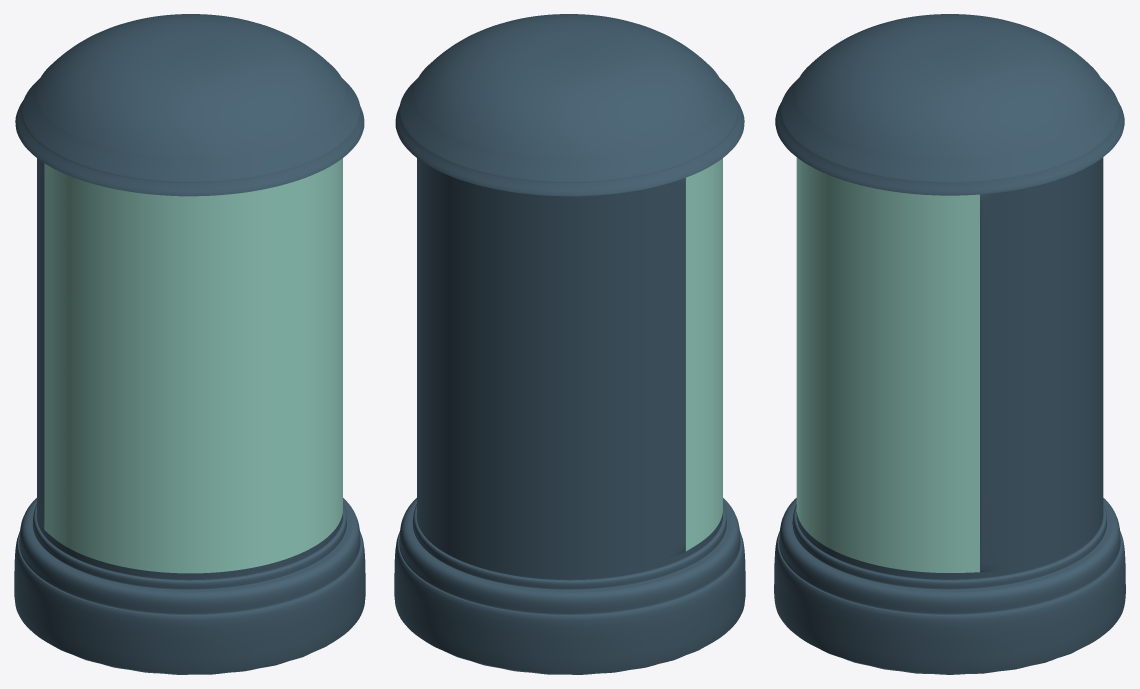
File: L'fePod.fbx
3 renders of one model, left to right at view 1: azimuth 30°, elevation 25°; view 2: azimuth 150°, elevation 25°; view 3: azimuth 270°, elevation 25°, orthographic.
Visible parts, largest first — view 1: Cam, Kaps; view 2: Kaps, Cam; view 3: Kaps, Cam.
Boxes of the visible parts, x1=… form: Cam: x1=44, y1=158, x2=342, y2=573; Kaps: x1=14, y1=14, x2=365, y2=674; Kaps: x1=394, y1=14, x2=745, y2=674; Cam: x1=685, y1=158, x2=722, y2=551; Kaps: x1=774, y1=14, x2=1125, y2=674; Cam: x1=796, y1=157, x2=979, y2=572.
Size of the model in its own units: 1.99 by 3.49 by 1.99.
